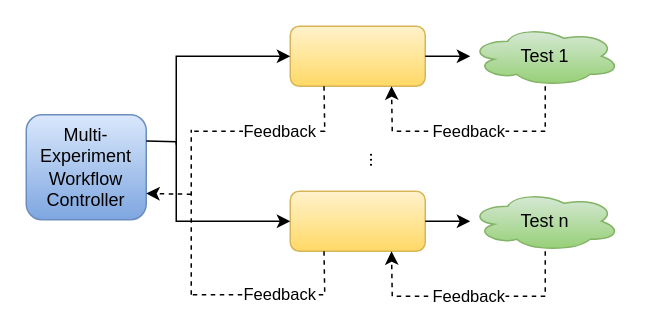
This 647x335 diagram has some shape labels left out. The centre of each missing label's shape, as x and y in pixels:
"Experiment Controller 1" goes at point 357,55.
"Experiment Controller n" goes at point 357,220.
